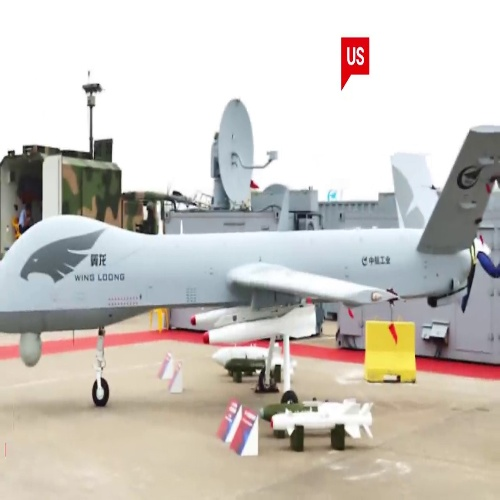uav123: (7, 131, 498, 397)
